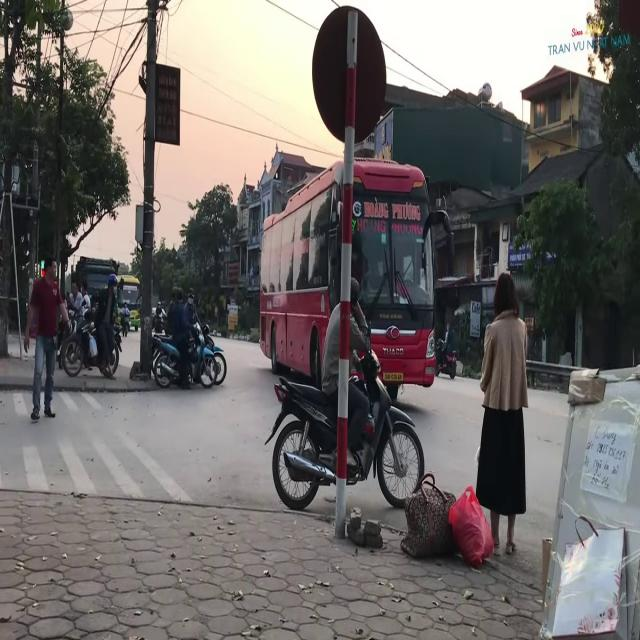bien_vang: (384, 372, 405, 384)
